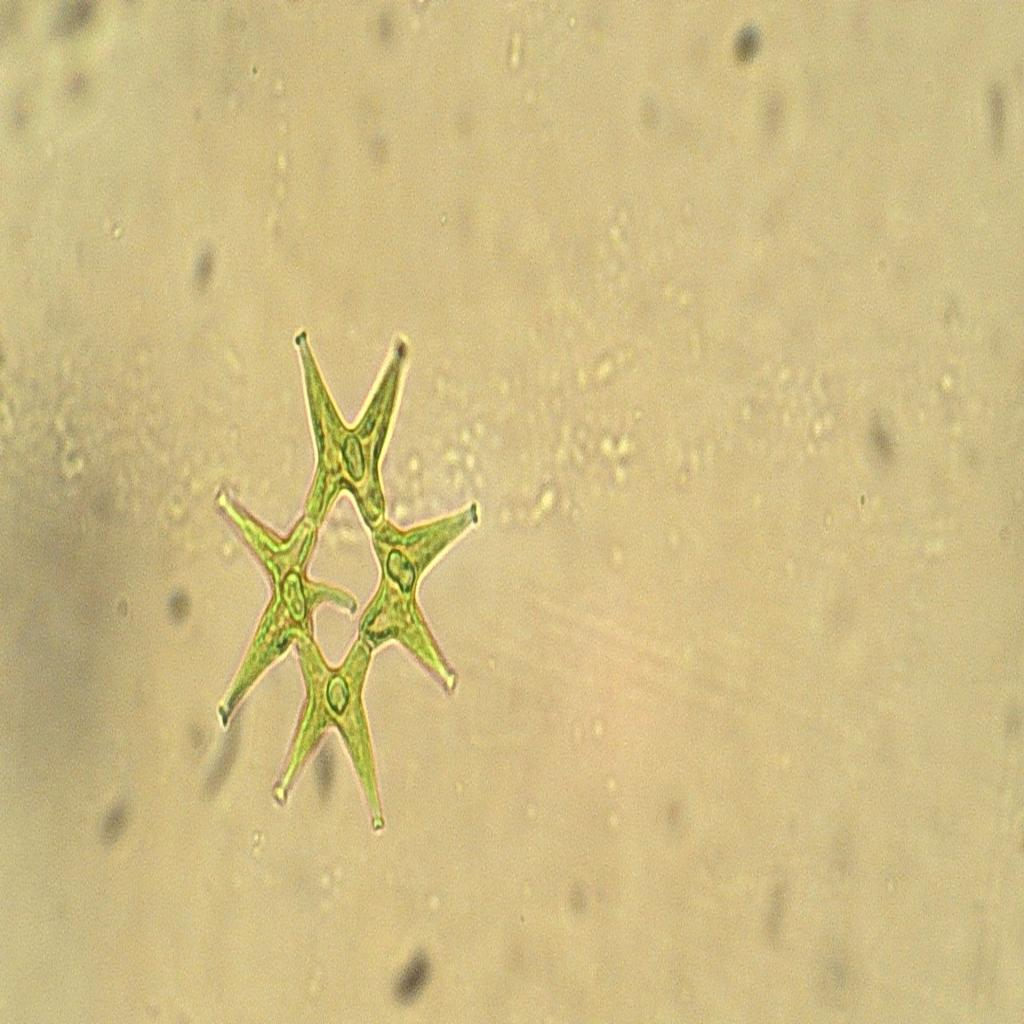Pediastrum_75FO: (198, 313, 496, 840)
